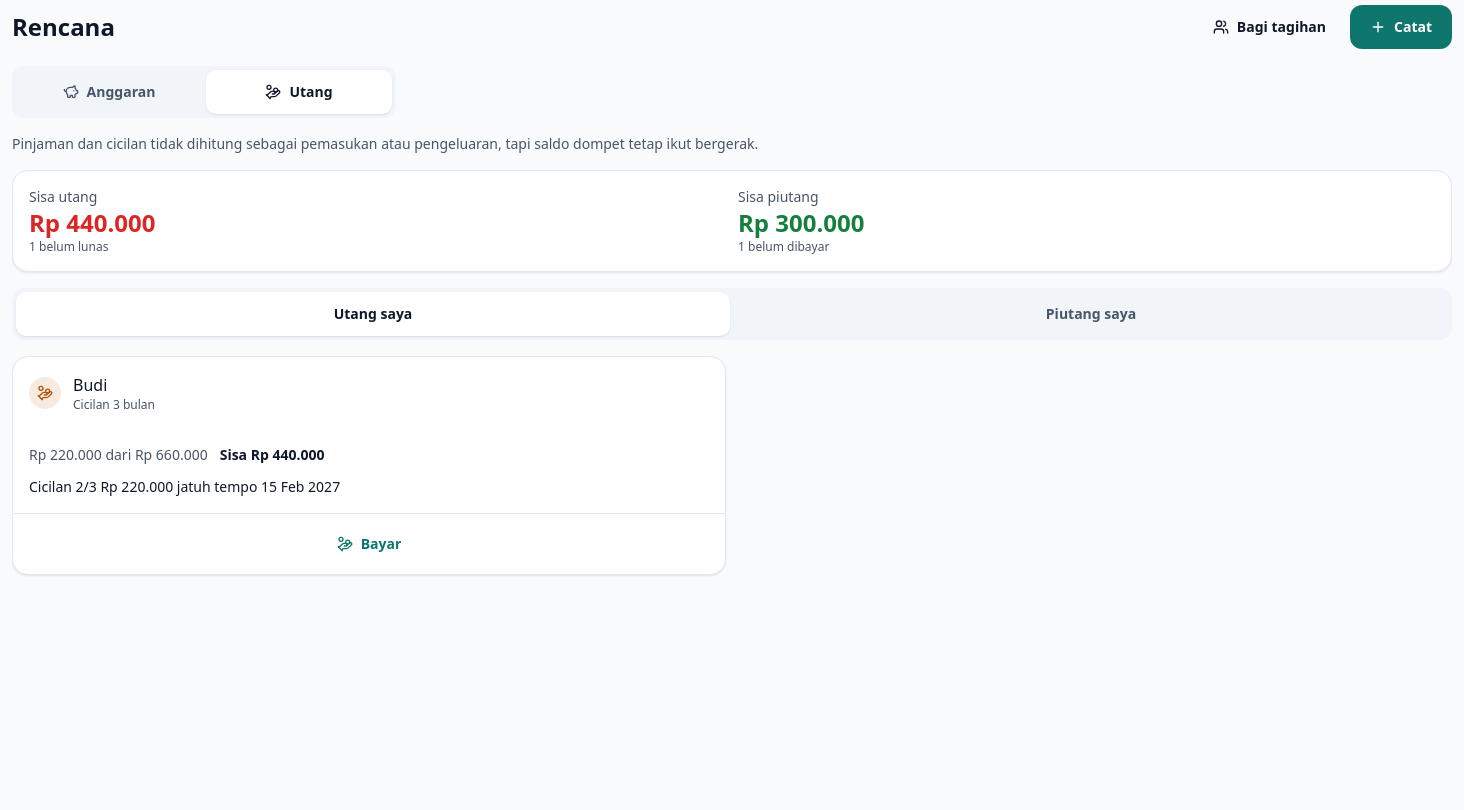
Test: DebtsPage › ringkasan sisa utang & piutang; tab memisahkan arah
Check: the heading "Rencana" is shown, box [12, 11, 115, 43]
Check: the text "Rp 440.000" is shown, box [29, 206, 156, 239]
Click the radio button labelled "Piutang saya" at (1091, 314), box [1046, 304, 1136, 323]
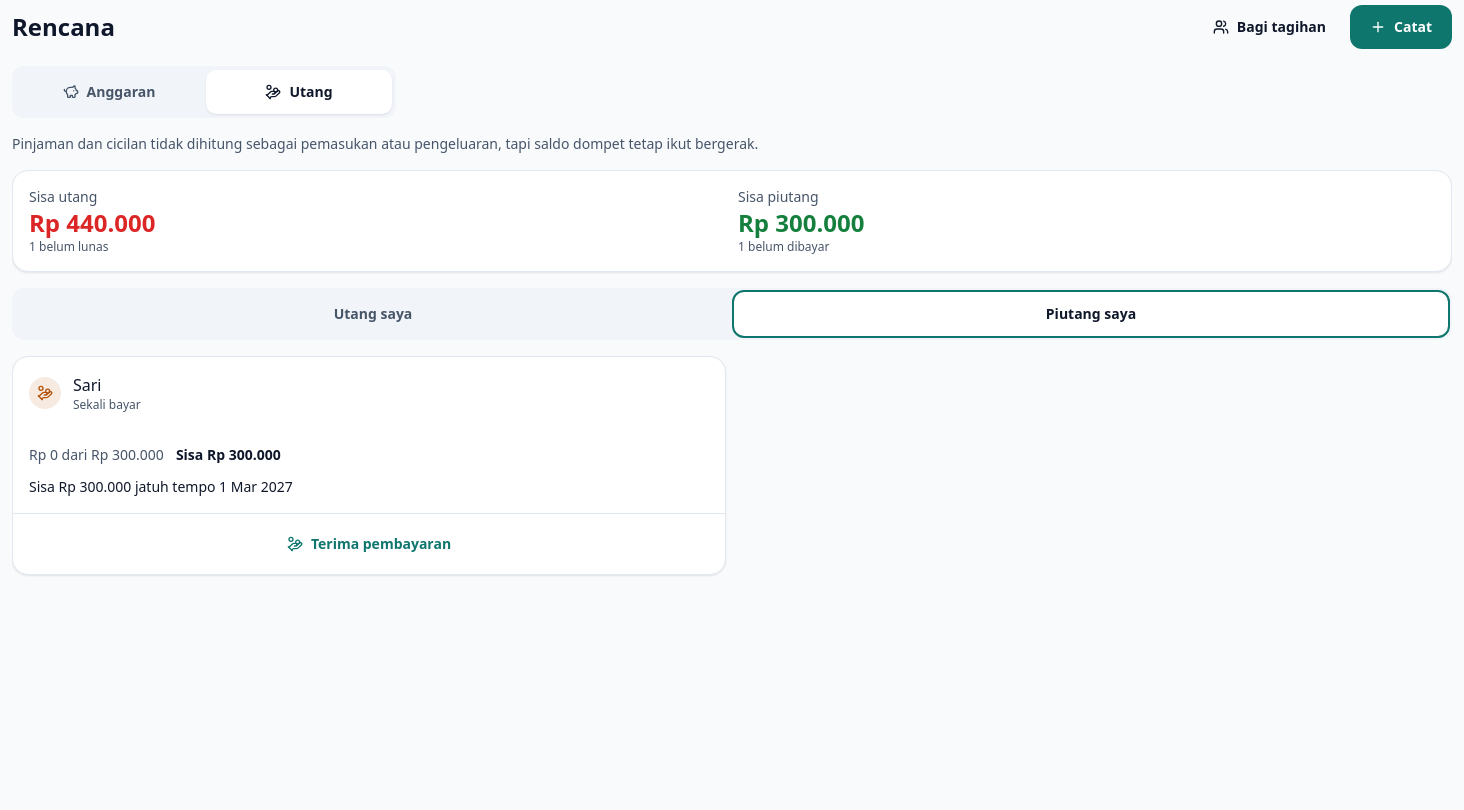
Check: the button with aria-label "Lihat Piutang dari Sari" is shown, box [13, 357, 725, 513]
Check: the button with aria-label "Terima pembayaran dari Sari" is shown, box [21, 522, 717, 566]
